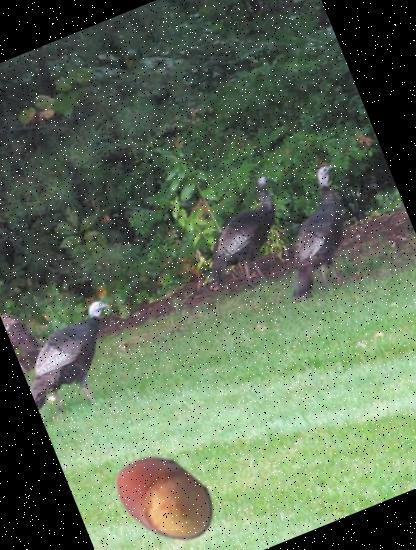Hazelnut: (93, 425, 236, 550)
